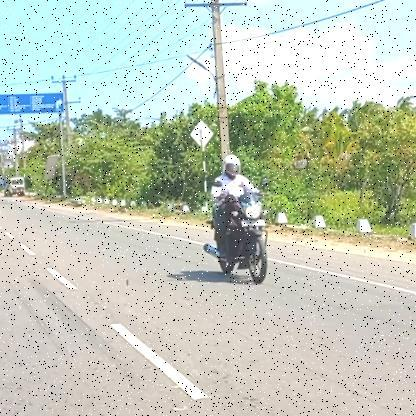motorcycle: (200, 190, 284, 289)
